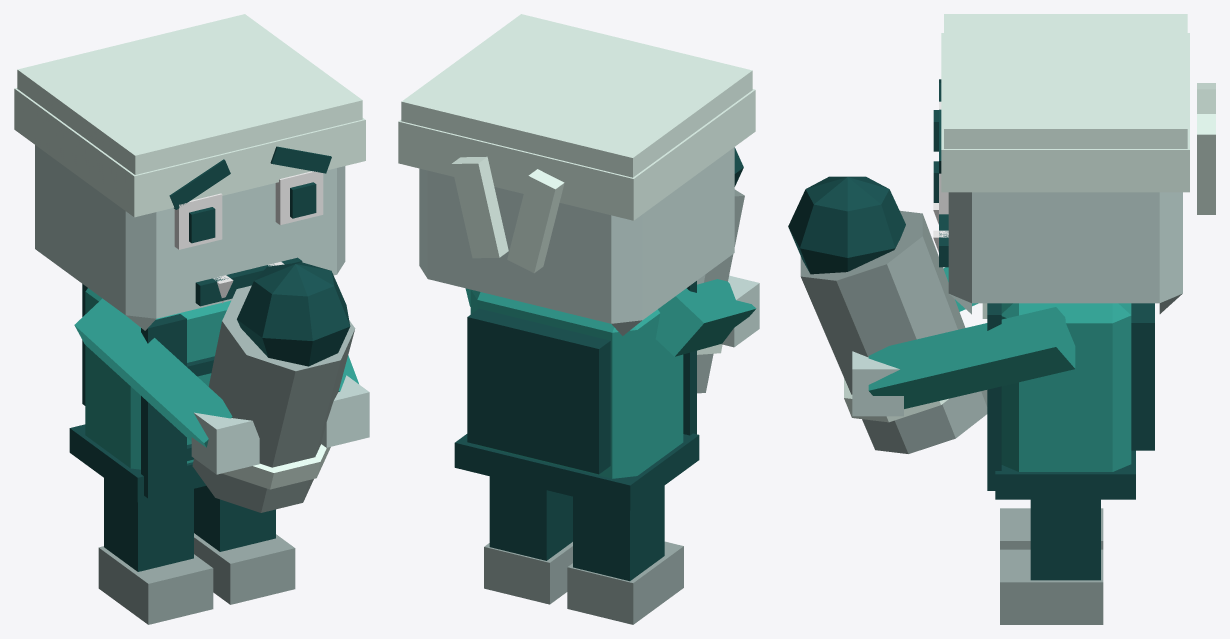
File: mortar_r14.glb
3 renders of one model, left to right at view 1: azimuth 30°, elevation 25°; view 2: azimuth 150°, elevation 25°; view 3: azimuth 270°, elevation 25°, orthographic. The views are drawn at different scales.
Visible parts, largest first — view 1: mortar_r14_mesh; view 2: mortar_r14_mesh; view 3: mortar_r14_mesh.
Boxes of the visible parts, x1=… form: mortar_r14_mesh: x1=14, y1=14, x2=369, y2=624; mortar_r14_mesh: x1=398, y1=14, x2=759, y2=624; mortar_r14_mesh: x1=788, y1=14, x2=1215, y2=624.
Bounding box in the file's own units: 0.8588 × 1.7 × 1.28.
1 material, 1 textured.
